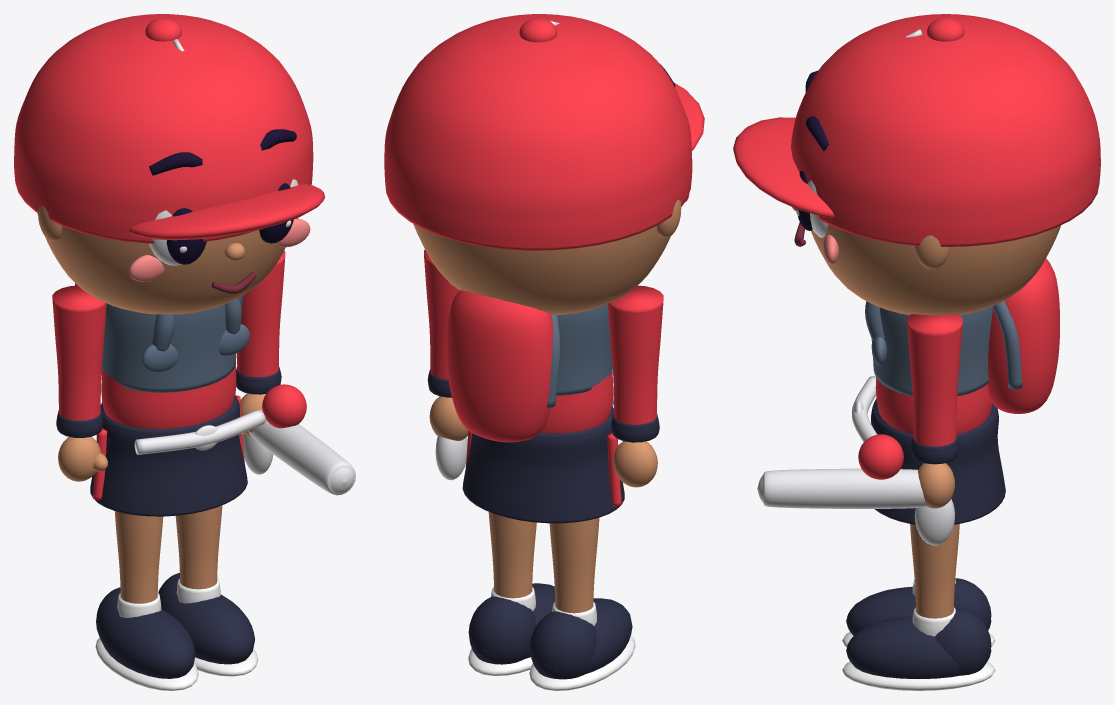
The model's file is character.glb.
3 renders of one model, left to right at view 1: azimuth 30°, elevation 25°; view 2: azimuth 150°, elevation 25°; view 3: azimuth 270°, elevation 25°, orthographic. The views are drawn at different scales.
Parts seen in each view (by area): view 1: Body, ArmR, LegL, LegR, ArmL; view 2: Body, LegL, ArmL, LegR, ArmR; view 3: Body, ArmR, LegR, LegL.
Part boxes in pixels (x1,y1,x2,y2): Body: (14,14,325,516); ArmR: (236,250,355,495); LegL: (95,511,198,690); LegR: (158,505,257,676); ArmL: (52,285,107,481); Body: (384,14,704,523); LegL: (529,518,635,690); ArmL: (607,285,663,487); LegR: (468,512,555,675); ArmR: (424,250,468,480); Body: (733,14,1100,524); ArmR: (757,314,962,545); LegR: (842,524,995,690); LegL: (842,578,995,647).
Size of the model in its own units: 1.13 by 2.65 by 1.37.
